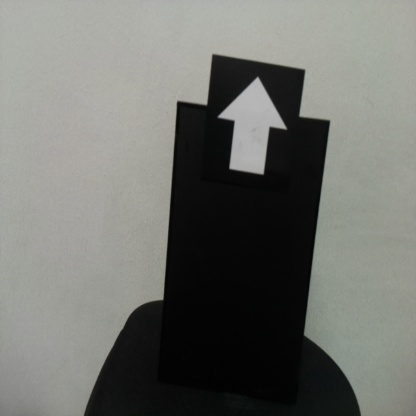id_1: (210, 60, 302, 196)
